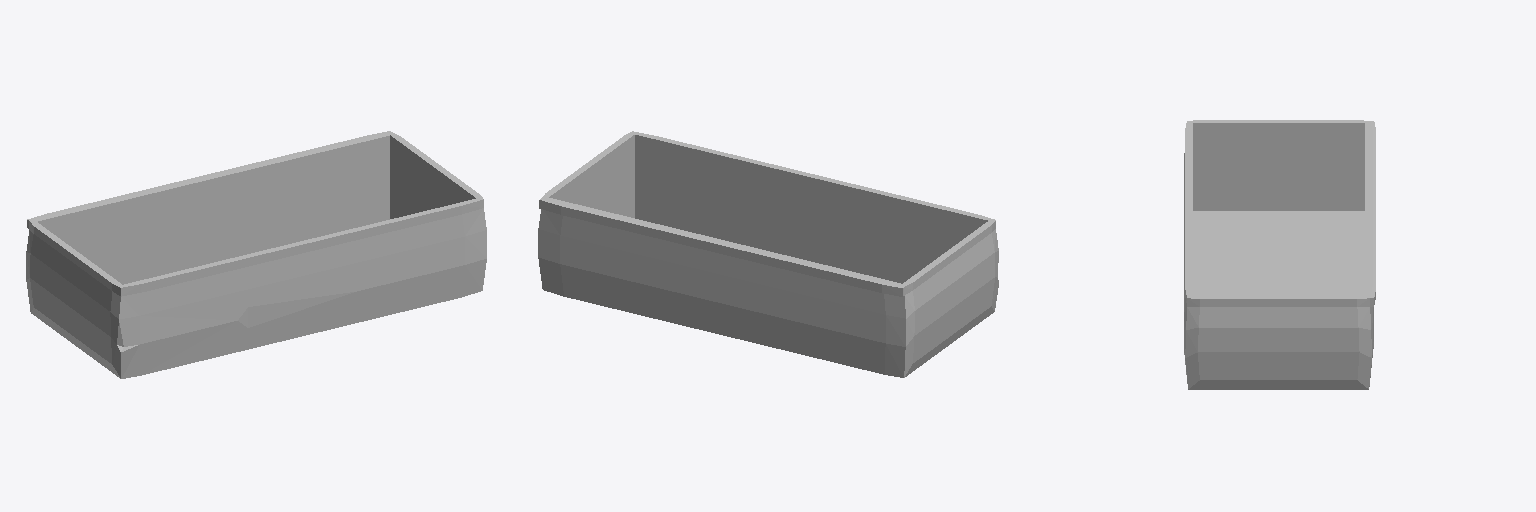
Rendered from Chest.obj.
3 views of the same model, side by side, from view 1: azimuth 30°, elevation 25°; view 2: azimuth 150°, elevation 25°; view 3: azimuth 270°, elevation 25° (orthographic).
Parts seen in each view (by area): view 1: Chest; view 2: Chest; view 3: Chest.
Part boxes in pixels (left/top/right/bottom): Chest: left=26, top=131, right=486, bottom=378; Chest: left=538, top=131, right=998, bottom=377; Chest: left=1184, top=120, right=1375, bottom=389.
Size of the model in its own units: 1.63 by 0.3889 by 0.7326.